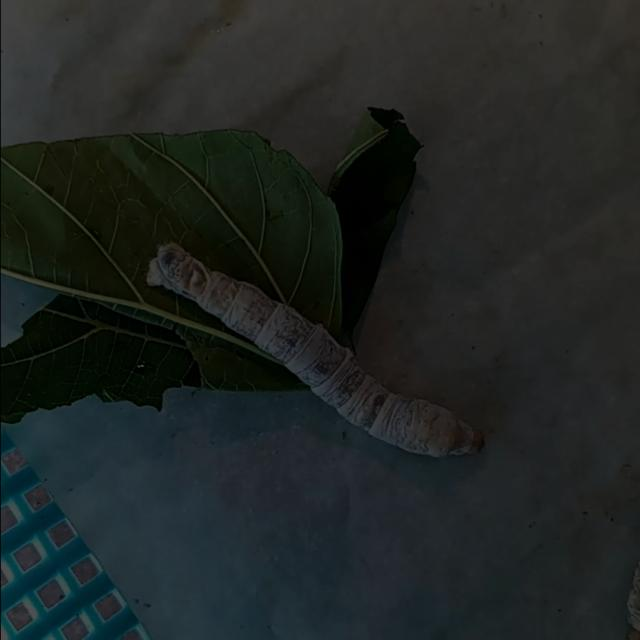Grasserie: (132, 221, 514, 473)
